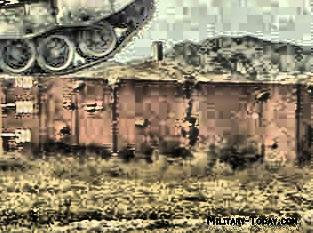tanks: (1, 1, 156, 75)
